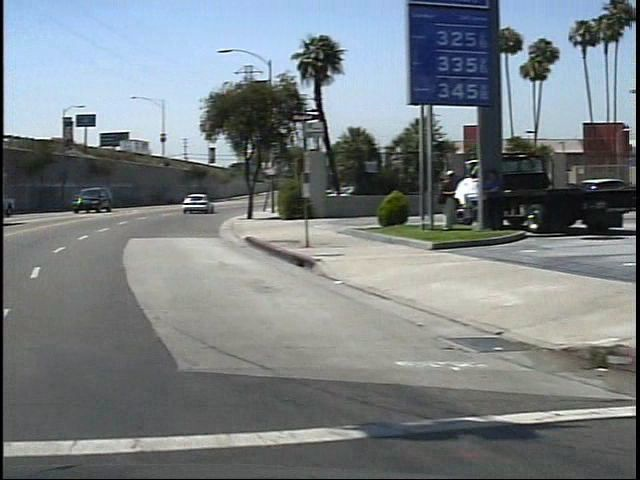person: (426, 164, 453, 233)
